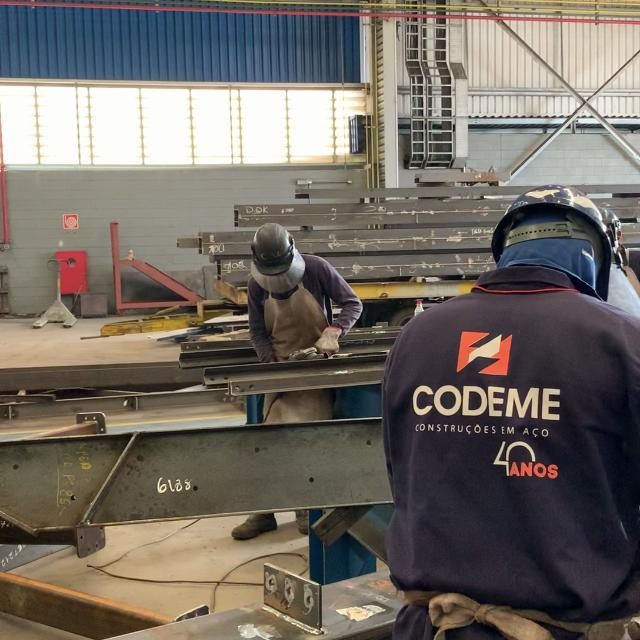eye-glass: (247, 251, 304, 295)
face-shield: (318, 327, 342, 356)
glove: (490, 184, 613, 302), (254, 223, 293, 275)
mask: (380, 185, 640, 634), (247, 222, 362, 361)
